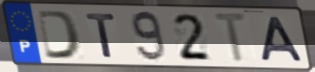2: (171, 13, 212, 63)
9: (131, 10, 169, 64)
A: (260, 15, 307, 63)
D: (35, 9, 84, 61)
T: (211, 11, 252, 65), (84, 12, 118, 60)
